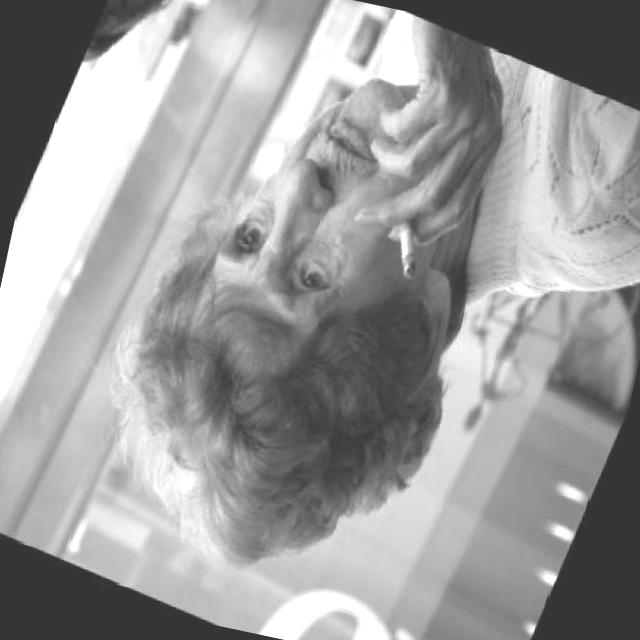cigarette: (380, 213, 440, 283)
